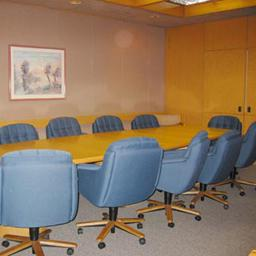Puerta: (206, 51, 255, 122)
